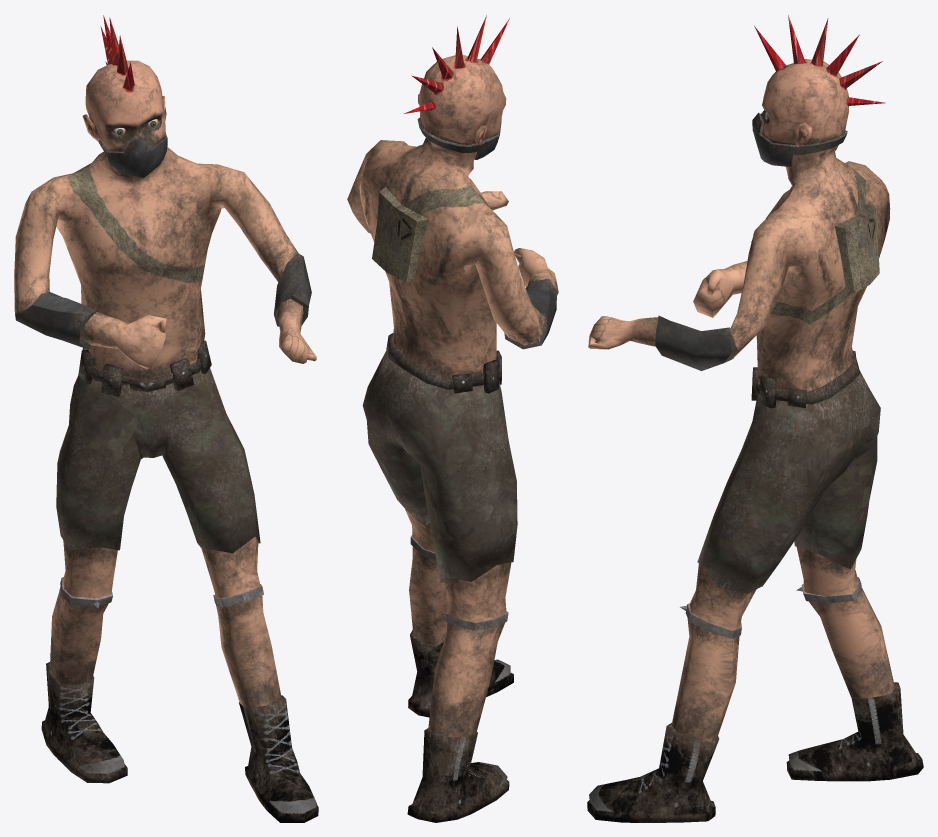
File: Anim_disparar_ametralladora_npc2.0021.obj
3 views of the same model, side by side, from view 1: azimuth 30°, elevation 25°; view 2: azimuth 150°, elevation 25°; view 3: azimuth 270°, elevation 25° (orthographic). The views are drawn at different scales.
Parts seen in each view (by area): view 1: polySurface1; view 2: polySurface1; view 3: polySurface1.
Part boxes in pixels (x1,y1,x2,y2): polySurface1: (14, 15, 318, 822); polySurface1: (347, 15, 558, 822); polySurface1: (587, 15, 923, 822).
Bounding box in the file's own units: 3.3 × 10.07 × 4.03.
Materials: 2 (2 with a texture image).
